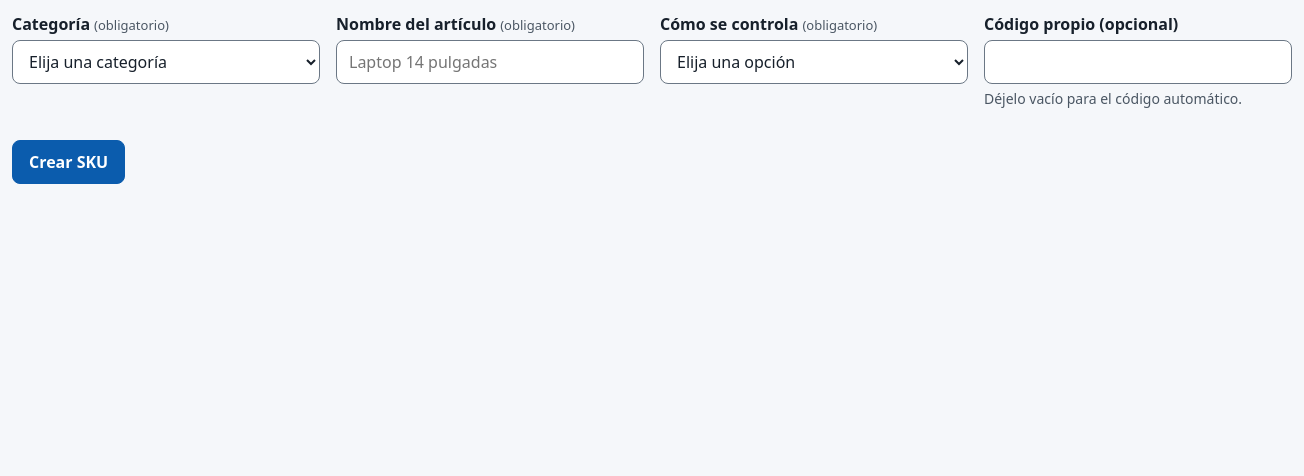
Test: FormularioSku › exige el campo obligatorio de la categoría
Select "Laptops (LAP)" in the dropdown with test id "campo-categoria". click: point(166, 62)
box: [12, 40, 320, 84]
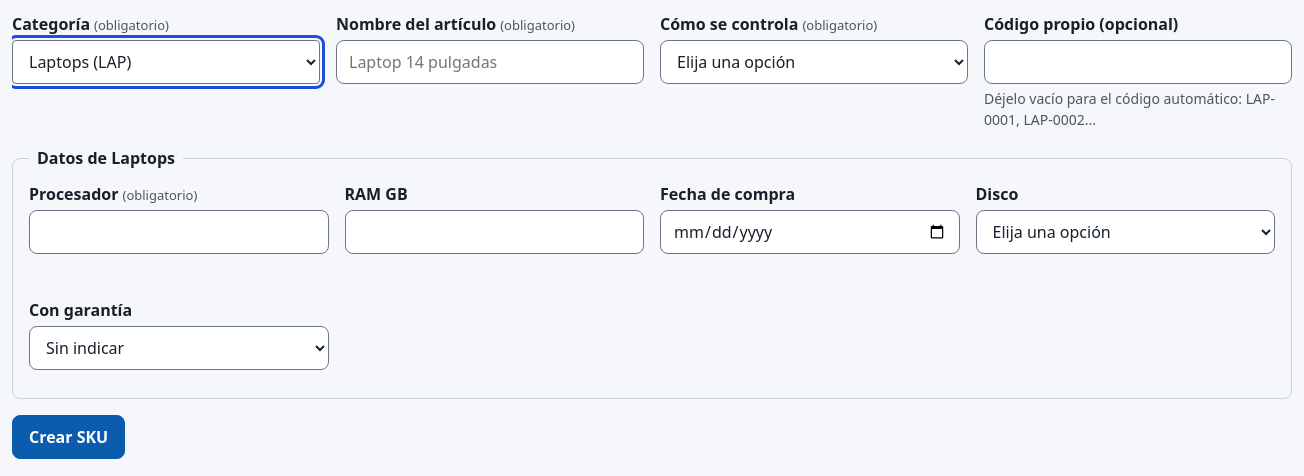
Type "Laptop 14" into the field with test id "campo-nombre". click: point(490, 62)
box: [336, 40, 644, 84]
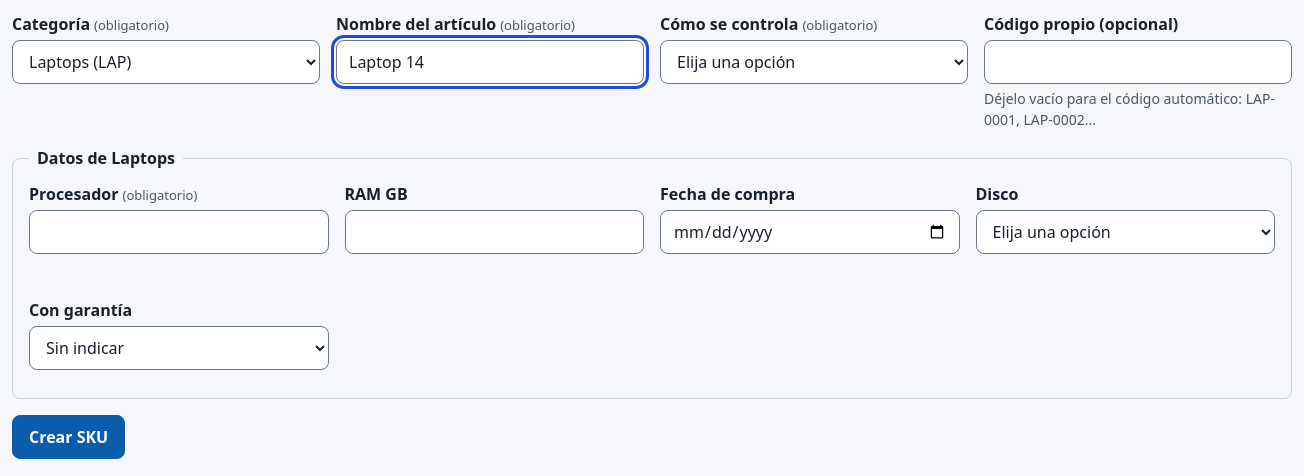
Select "Por serie (cada equipo tiene su número de serie)" in the dropdown with test id "campo-control". click: point(814, 62)
box: [660, 40, 968, 84]
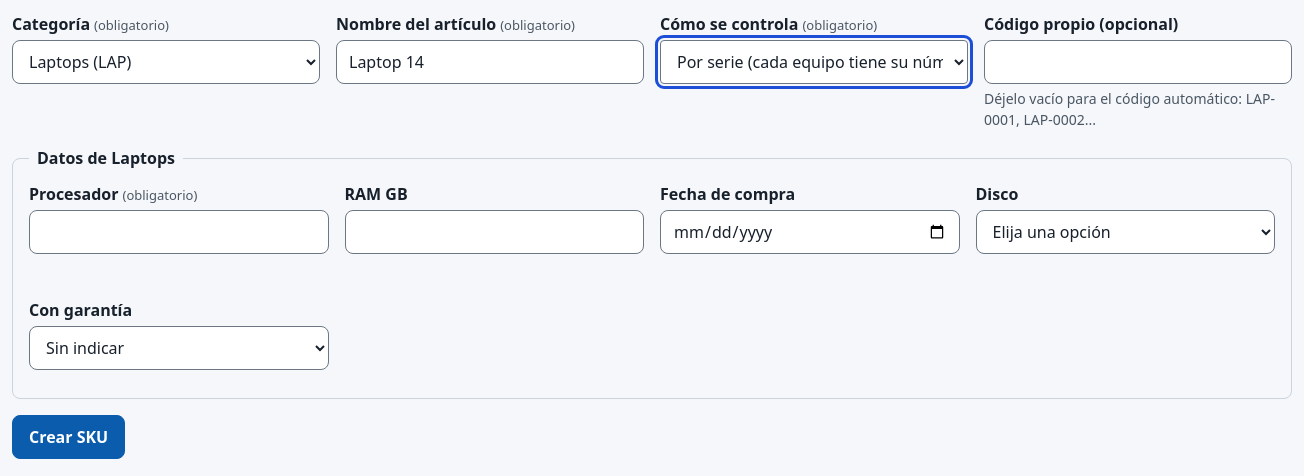
Click the button with test id "form-crear-sku-enviar". click: point(69, 437)
box: [12, 415, 125, 459]
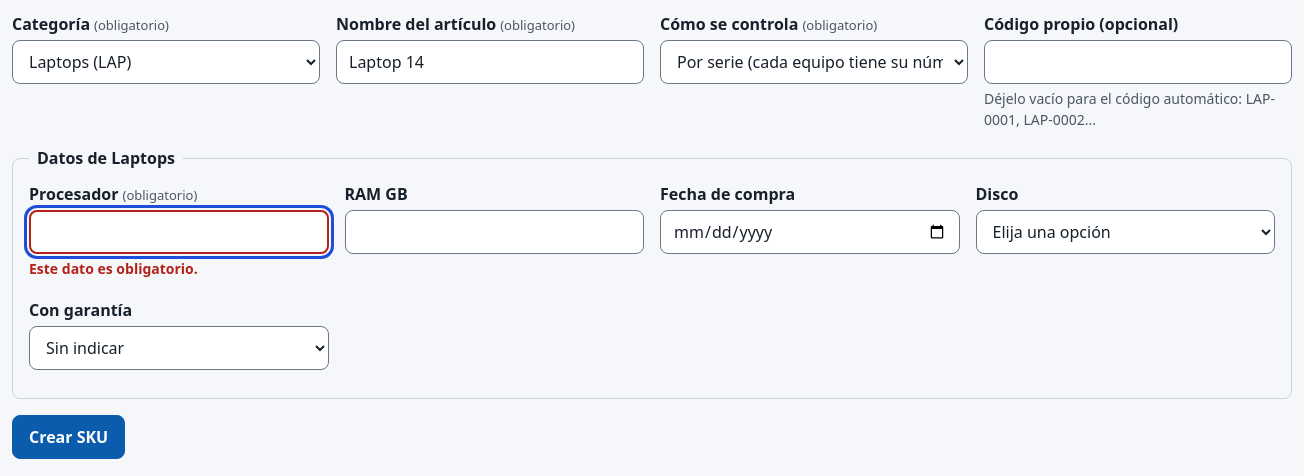
Result: the message with test id "valor-procesador-error" reads "Este dato es obligatorio." at [29, 259, 198, 278]
